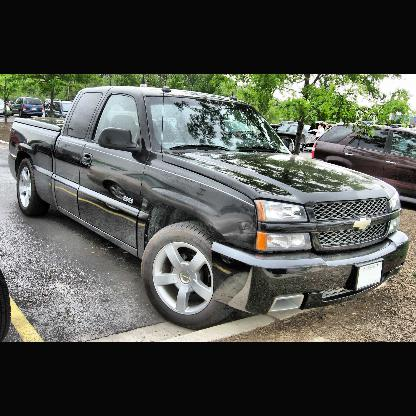Chevrolet Silverado 1500 Classic Extended Cab 2007: (9, 86, 409, 331)
